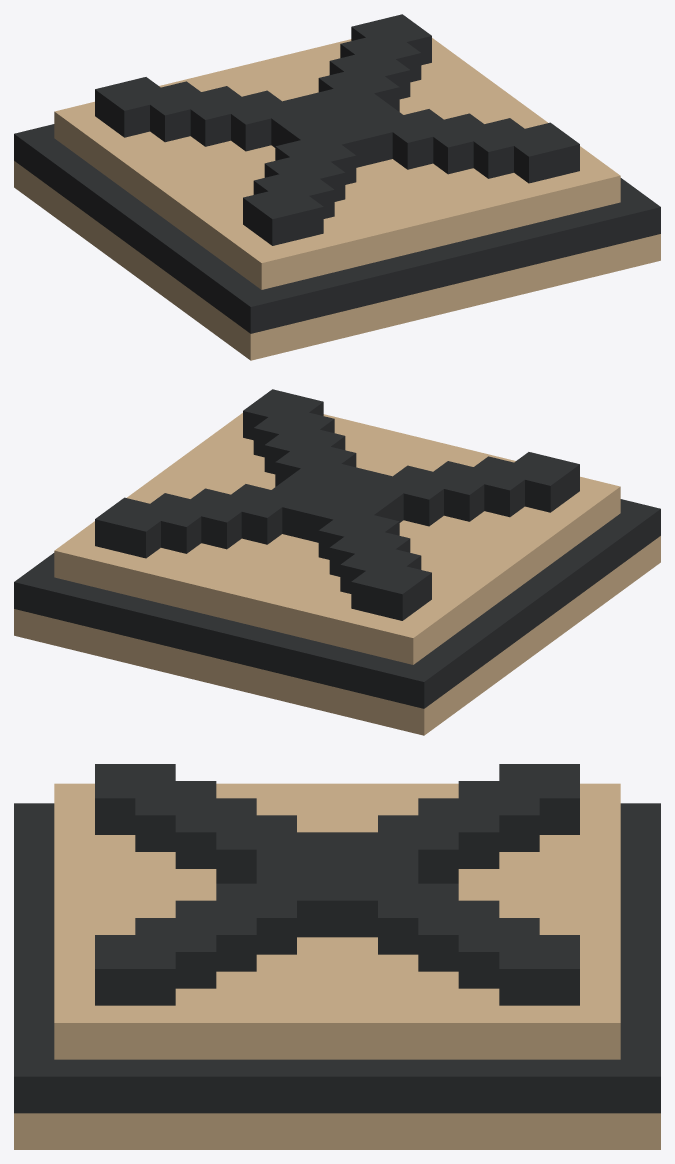
File: x-v1-tan-black.gltf
The picture shows the model from 3 angles, top to bottom: view 1: azimuth 30°, elevation 25°; view 2: azimuth 150°, elevation 25°; view 3: azimuth 270°, elevation 25°; orthographic projection. The views are drawn at different scales.
Parts seen in each view (by area): view 1: Untitled; view 2: Untitled; view 3: Untitled.
Part boxes in pixels (x1,y1,x2,y2): Untitled: (14, 14, 660, 360); Untitled: (14, 389, 660, 735); Untitled: (14, 764, 660, 1149).
Bounding box in the file's own units: 1.6 × 0.4 × 1.6.
Materials: 1 (1 with a texture image).
